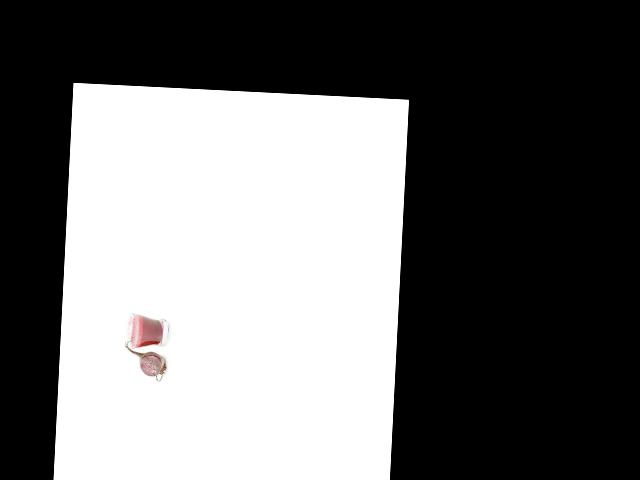beet: (123, 335, 168, 381)
